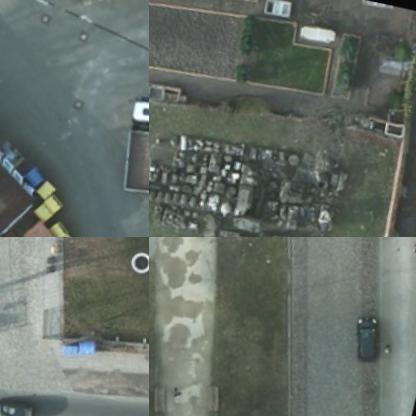car: (346, 306, 396, 362), (0, 385, 34, 415)
